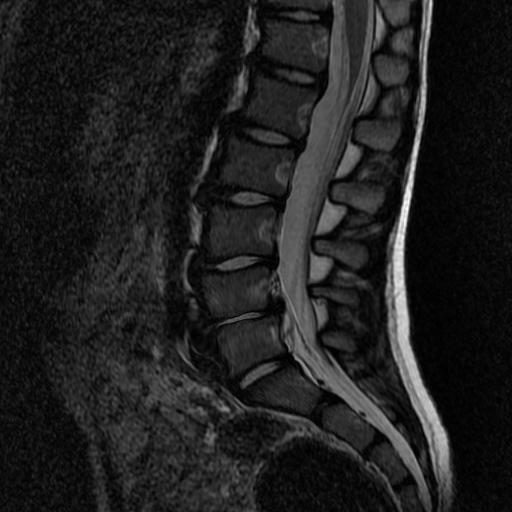D1: (222, 111, 306, 155)
